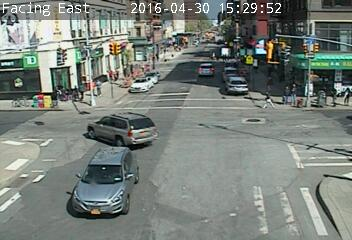neg: (319, 166, 345, 200), (9, 144, 30, 171), (76, 152, 96, 178), (63, 81, 82, 106), (120, 56, 137, 79), (199, 117, 215, 139), (197, 60, 213, 81), (242, 110, 257, 131), (170, 38, 184, 57), (249, 54, 263, 73), (30, 114, 43, 130), (221, 45, 232, 59), (193, 36, 201, 46)
pos: (260, 88, 277, 111), (327, 86, 344, 109), (287, 83, 304, 105), (279, 84, 295, 105), (262, 76, 277, 96), (93, 77, 108, 97), (340, 85, 351, 107)
